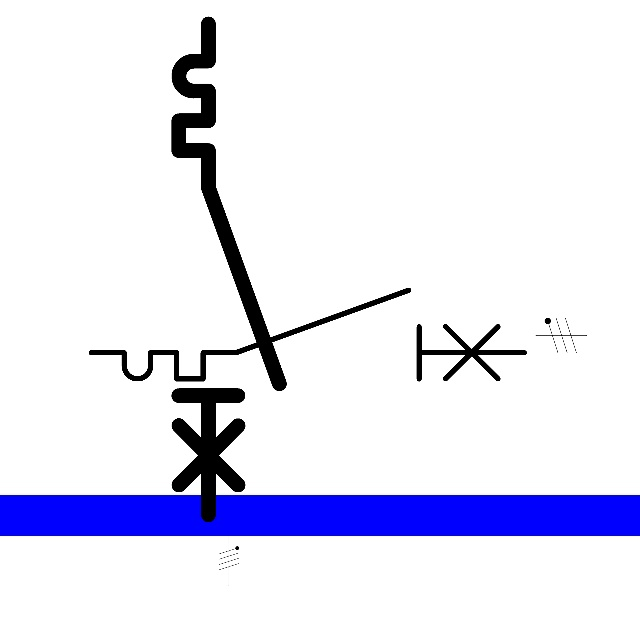interruptor_termomagnetico: (166, 11, 292, 527), (80, 279, 535, 390)
